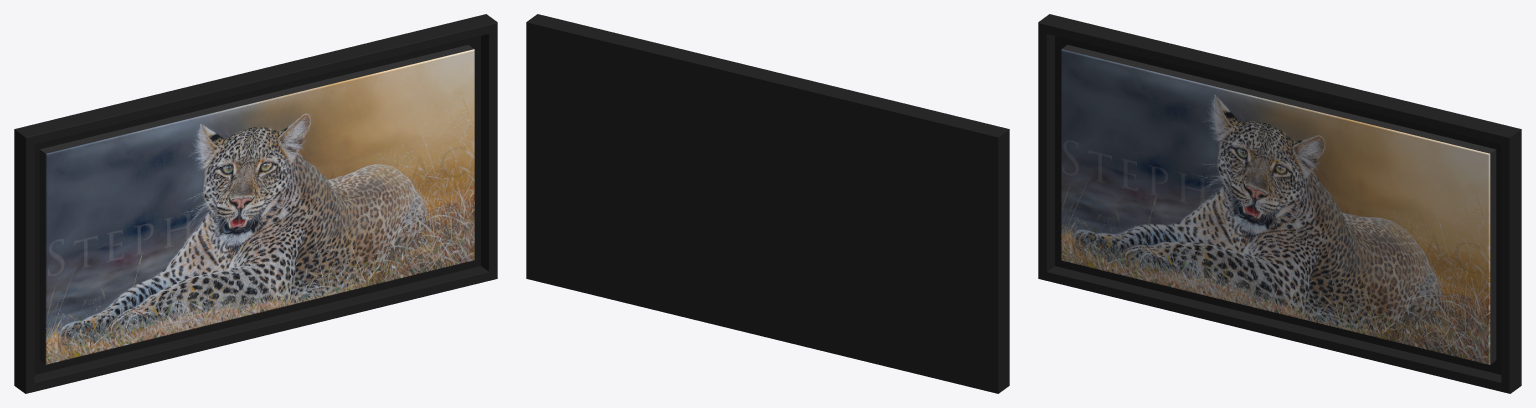
File: tableau-portrait-leopard-2-classique-757e4564.glb
3 renders of one model, left to right at view 1: azimuth 30°, elevation 25°; view 2: azimuth 150°, elevation 25°; view 3: azimuth 330°, elevation 25°, orthographic.
Parts seen in each view (by area): view 1: Painting; view 2: Painting; view 3: Painting.
Boxes of the visible parts, box(x1,y1,x2,y2) form: Painting: box(14, 14, 497, 393); Painting: box(526, 14, 1009, 393); Painting: box(1038, 14, 1521, 393).
Bounding box in the file's own units: 0.936 × 0.486 × 0.04.
Materials: 4 (2 with a texture image).
